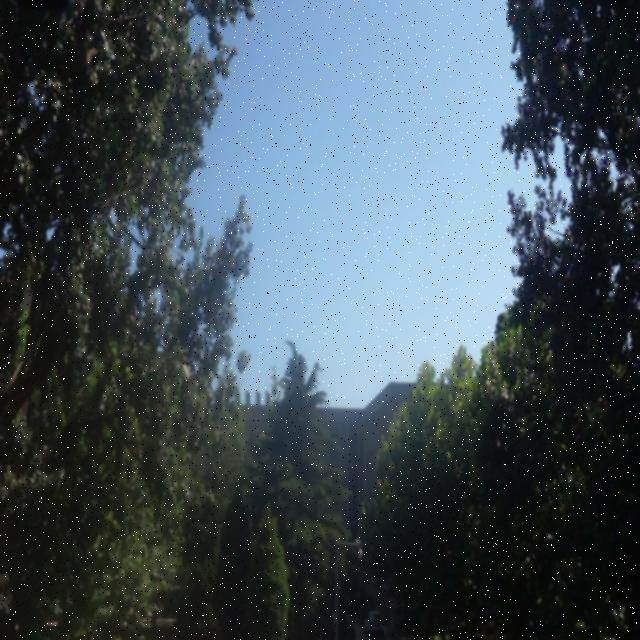UAV: (382, 480, 394, 488)
